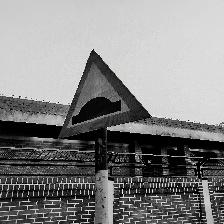Speed-breaker: (57, 50, 153, 138)
